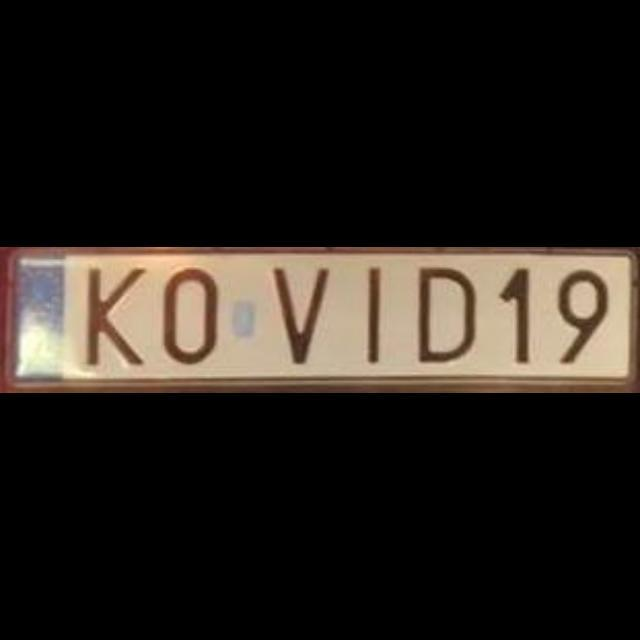license-plates: (14, 254, 637, 383)
